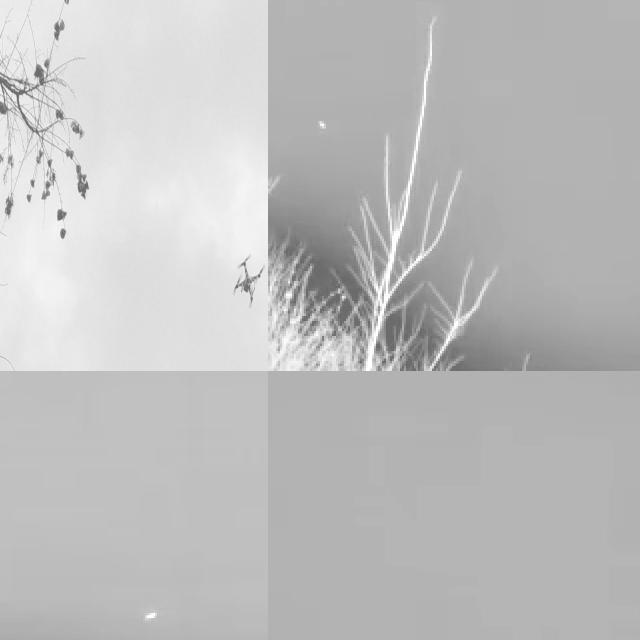0: (311, 112, 337, 142)
1: (134, 605, 166, 633)
drone: (227, 254, 266, 304)
